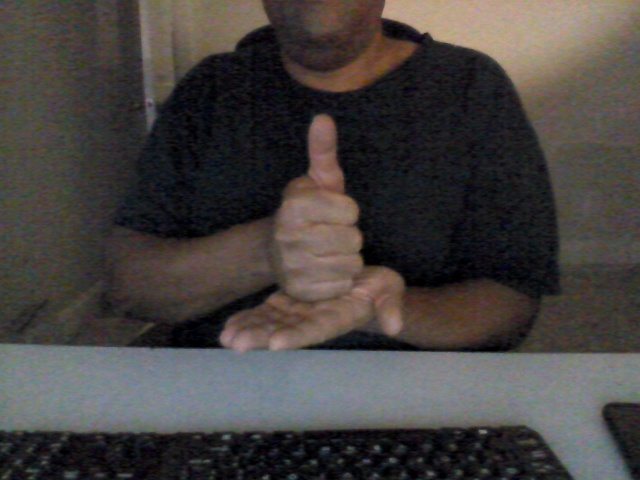help: (219, 108, 408, 363)
